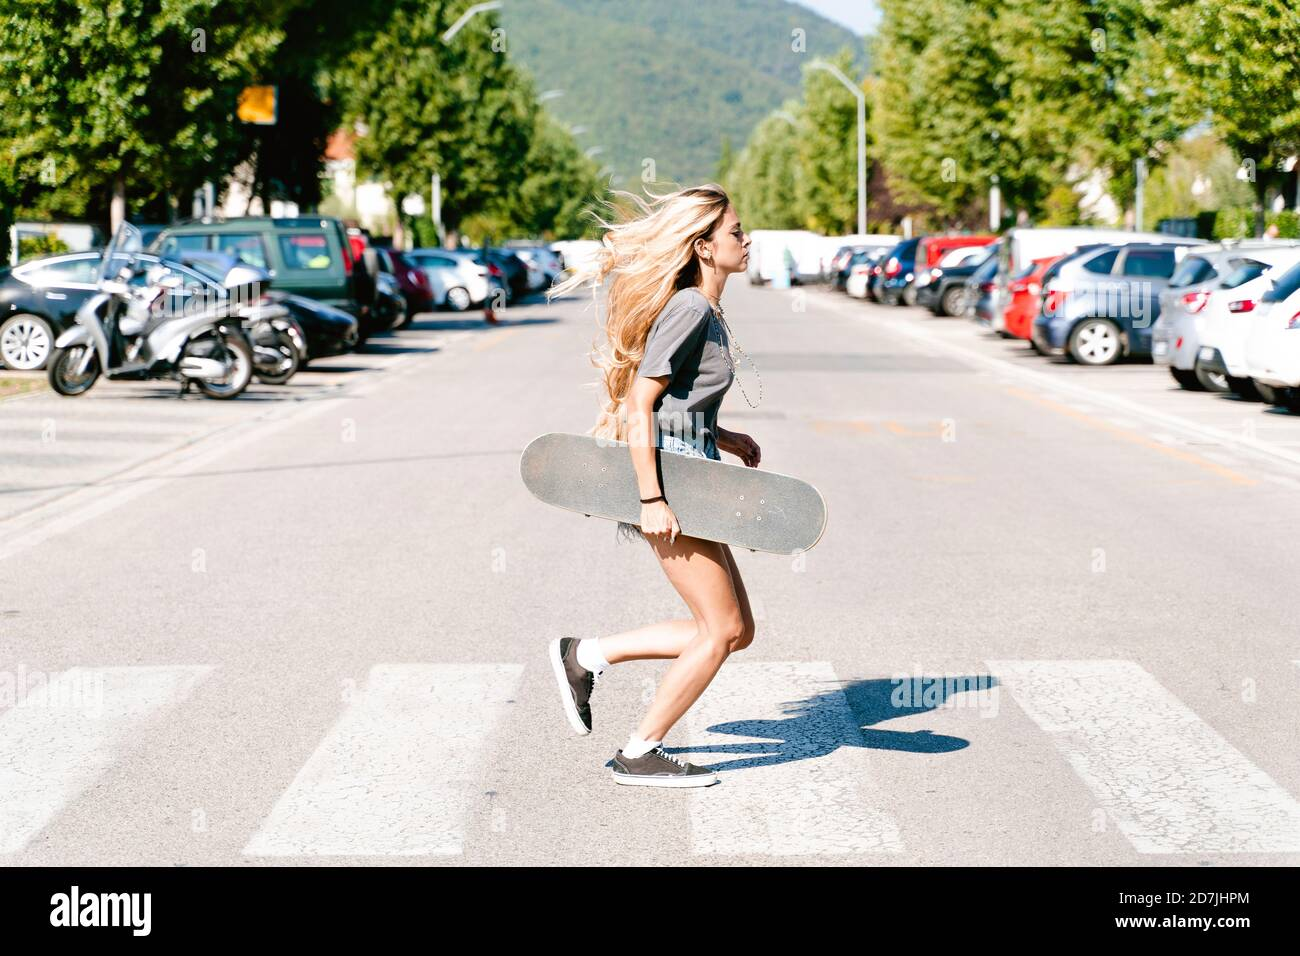person: (528, 175, 821, 793)
